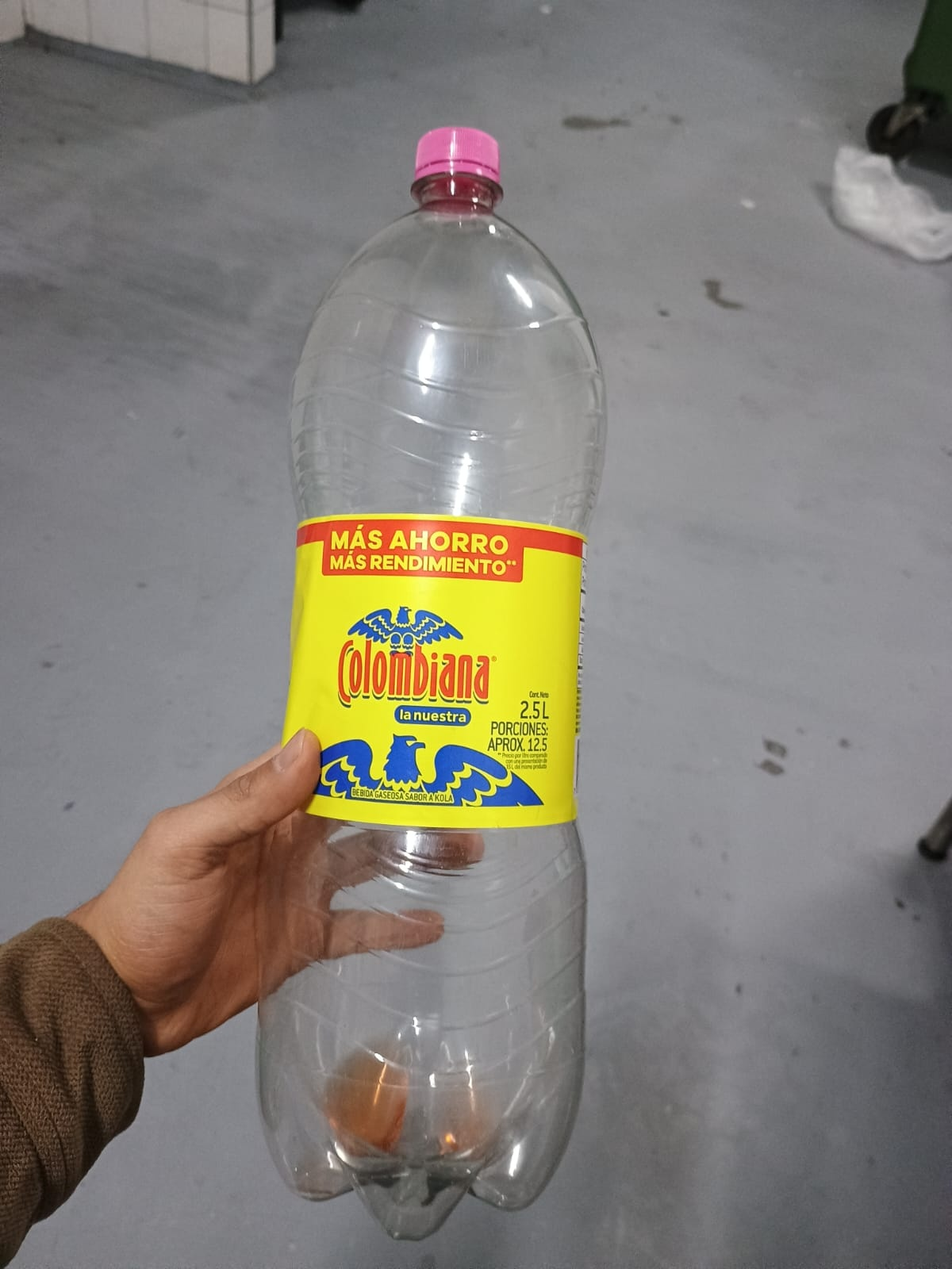Plastico: (260, 126, 607, 1239)
